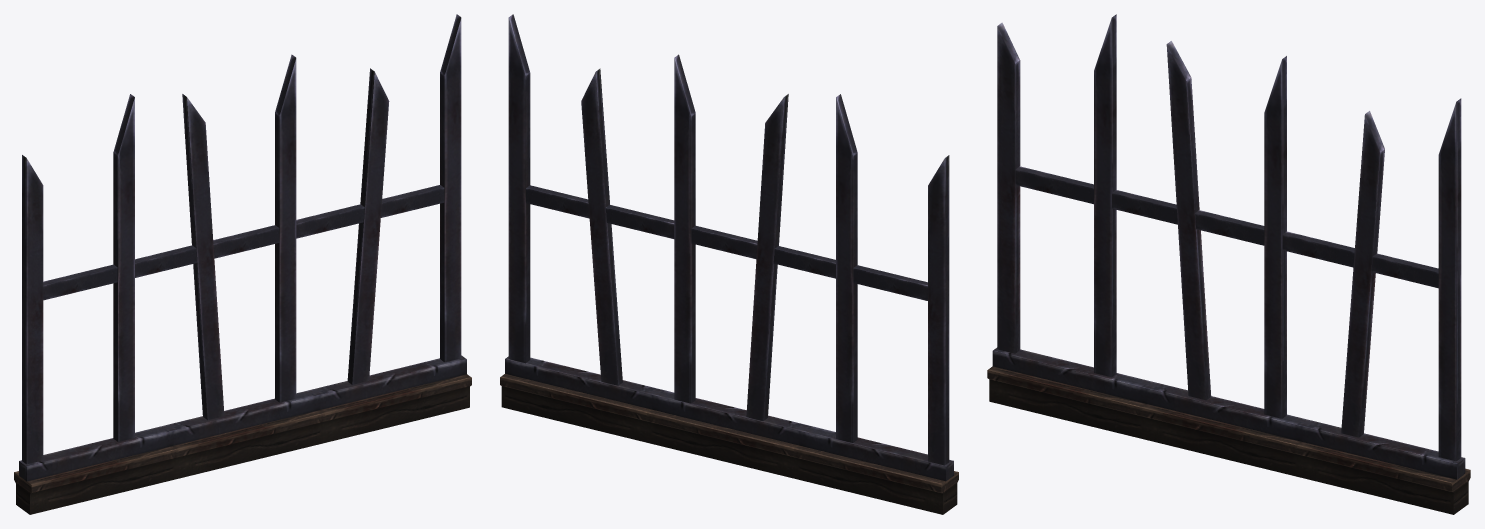
Rendered from B_zhalan003.fbx.
3 views of the same model, side by side, from view 1: azimuth 30°, elevation 25°; view 2: azimuth 150°, elevation 25°; view 3: azimuth 330°, elevation 25° (orthographic). The views are drawn at different scales.
Parts seen in each view (by area): view 1: B_zhalan003; view 2: B_zhalan003; view 3: B_zhalan003.
Part boxes in pixels (x1,y1,x2,y2): B_zhalan003: [14, 14, 471, 514]; B_zhalan003: [500, 14, 958, 514]; B_zhalan003: [987, 14, 1470, 514].
Bounding box in the file's own units: 299 × 251 × 20.69.
